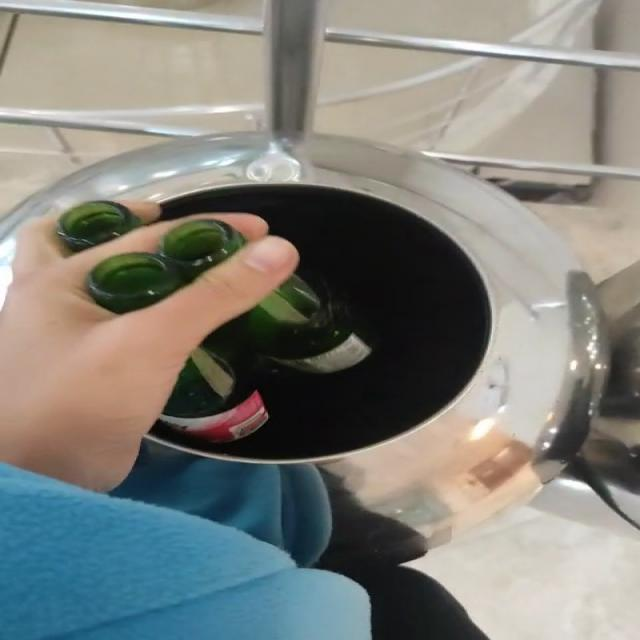Glass: (161, 275, 372, 443), (88, 220, 245, 313), (57, 202, 141, 251)
